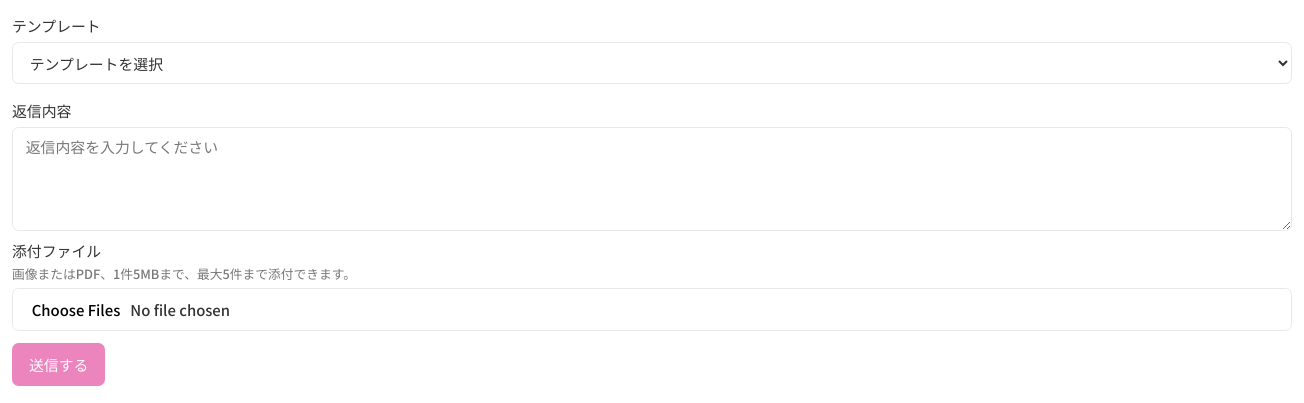
Test case: ReplyForm › テンプレートを選択すると本文が返信欄に挿入される
The image size is (1304, 403).
Select "テンプレート名2" in the dropdown labelled "テンプレート" at (652, 63), box [12,42,1292,84]
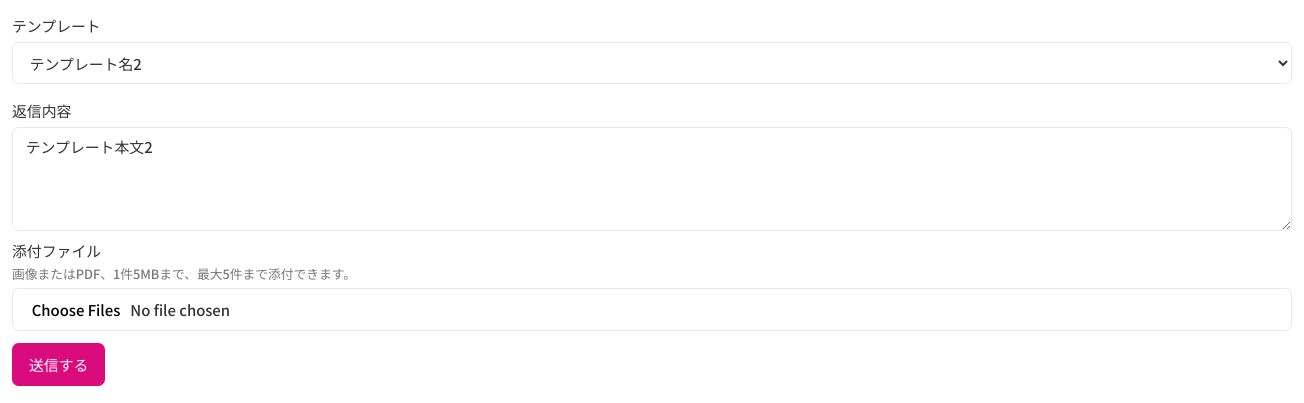
Expected: the text box labelled "返信内容" holds "テンプレート本文2", [12,127,1292,231]
